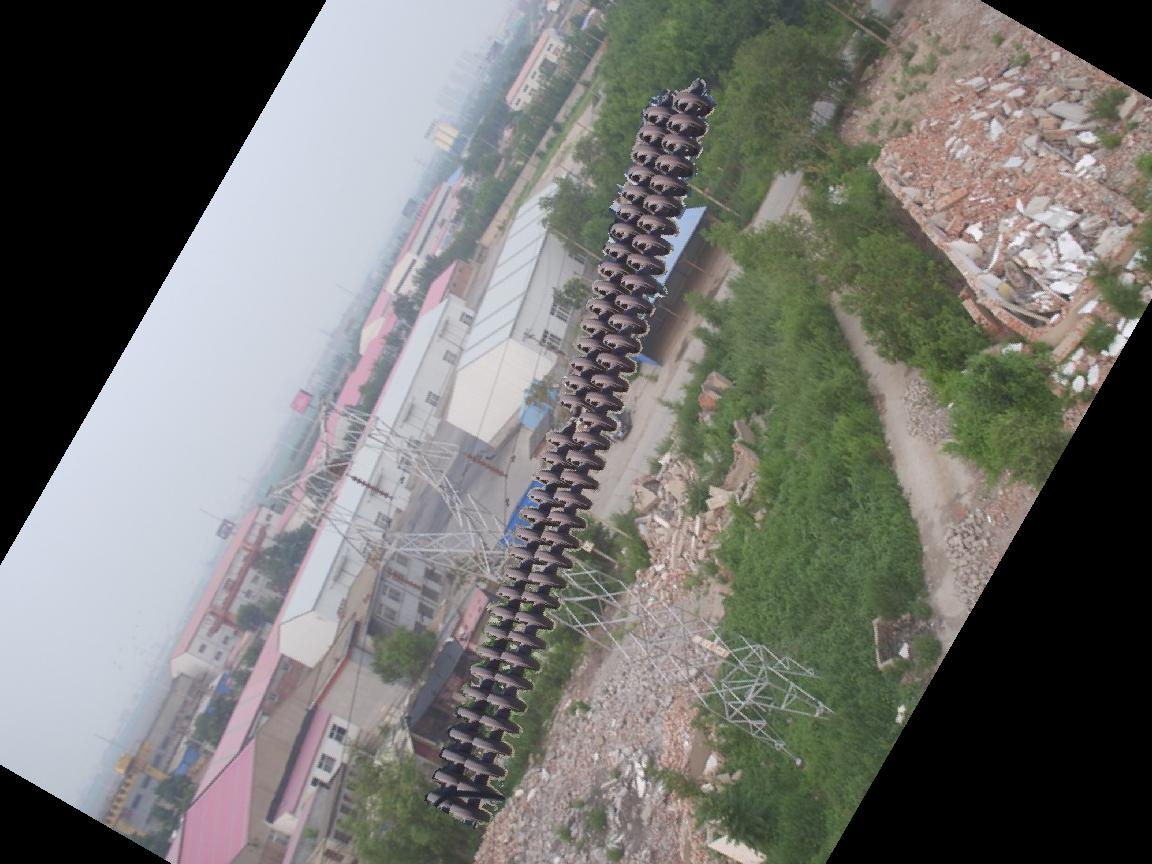insulator: (421, 82, 724, 830), (344, 472, 393, 502)
insulator_stringdrop: (544, 389, 592, 448)
